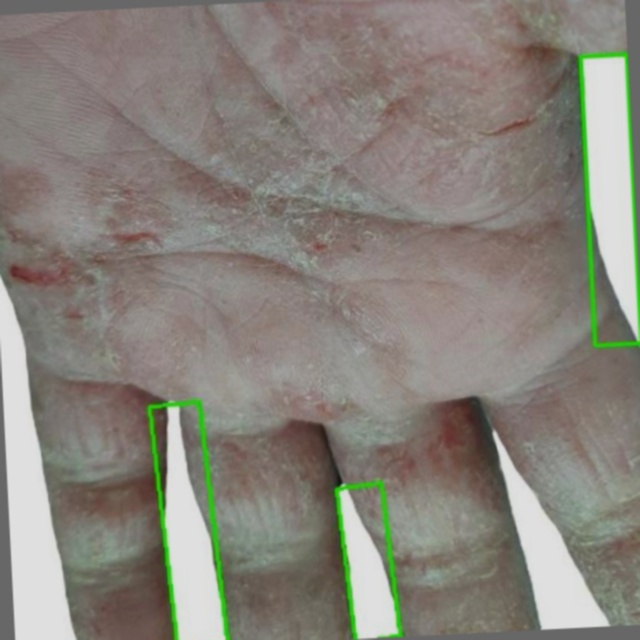Contact Dermatitis: (150, 401, 227, 639), (580, 54, 639, 345), (336, 482, 401, 638)
